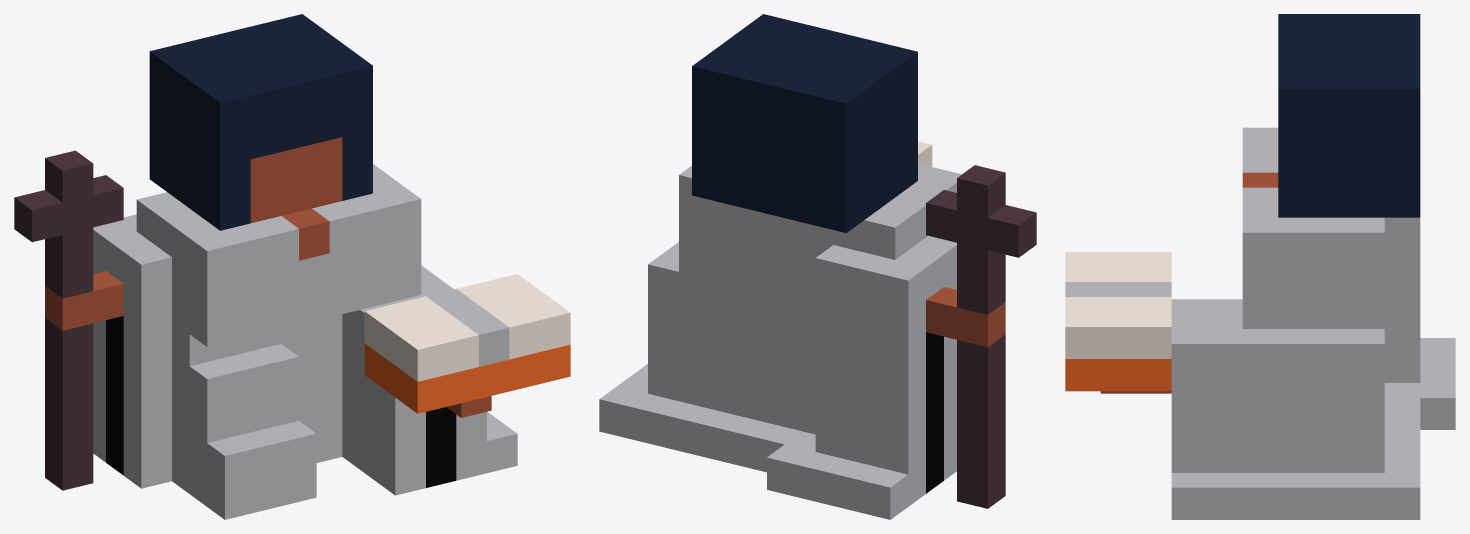
The model's file is priestess_walk_0.obj.
The picture shows the model from 3 angles, left to right: view 1: azimuth 30°, elevation 25°; view 2: azimuth 150°, elevation 25°; view 3: azimuth 270°, elevation 25°; orthographic projection.
Bounding box in the file's own units: 1.3 × 1.2 × 1.1.
Materials: 1 (1 with a texture image).
